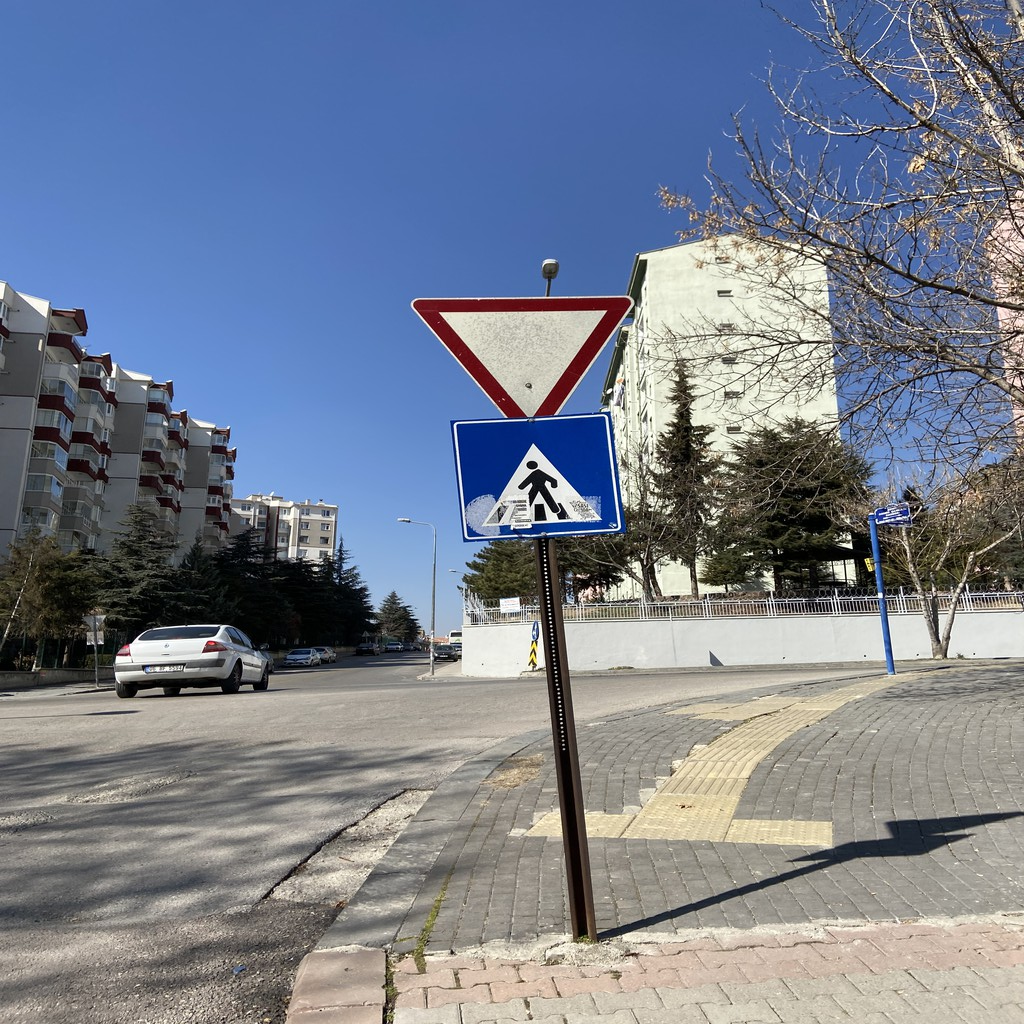Yaya Gecidi: (453, 419, 616, 532)
Yol Ver: (417, 287, 633, 417)
